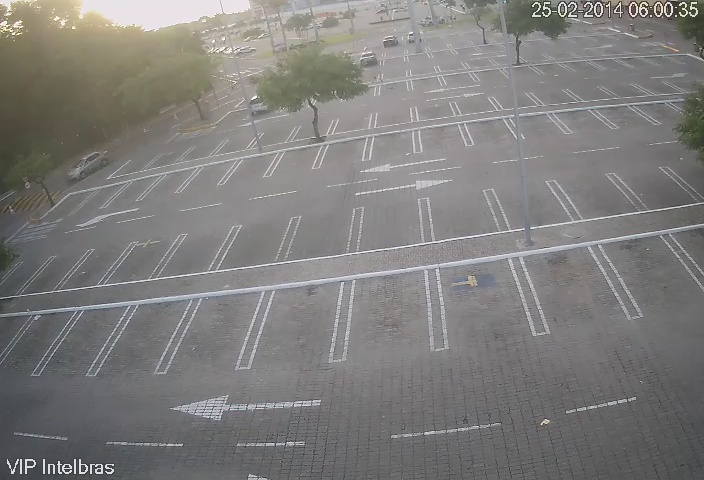lot: (428, 257, 530, 351), (520, 248, 629, 333), (344, 269, 440, 360), (598, 232, 699, 311), (177, 284, 257, 378), (258, 276, 338, 367), (112, 293, 173, 378), (421, 184, 499, 239), (68, 295, 115, 380), (491, 176, 568, 227), (229, 211, 291, 272), (356, 193, 425, 247), (618, 163, 696, 210), (295, 204, 360, 259), (172, 219, 230, 278), (559, 171, 633, 217), (15, 306, 63, 376), (592, 101, 654, 137), (118, 231, 166, 277), (506, 112, 562, 148), (551, 107, 614, 138), (417, 123, 469, 158), (369, 129, 419, 165), (40, 247, 78, 294), (461, 120, 520, 150), (81, 245, 122, 285), (275, 147, 320, 179), (228, 153, 274, 184), (320, 141, 369, 168), (5, 257, 40, 294), (191, 163, 228, 195), (149, 171, 190, 196), (254, 124, 299, 146), (117, 181, 151, 208), (81, 186, 115, 212), (294, 117, 332, 140), (117, 152, 155, 175), (367, 106, 414, 124), (600, 81, 647, 97), (412, 102, 458, 118), (335, 113, 371, 133), (452, 98, 499, 113), (638, 80, 681, 96), (533, 89, 577, 104), (495, 94, 538, 107), (156, 147, 190, 163), (570, 85, 608, 98), (220, 135, 253, 149), (187, 141, 219, 154)
